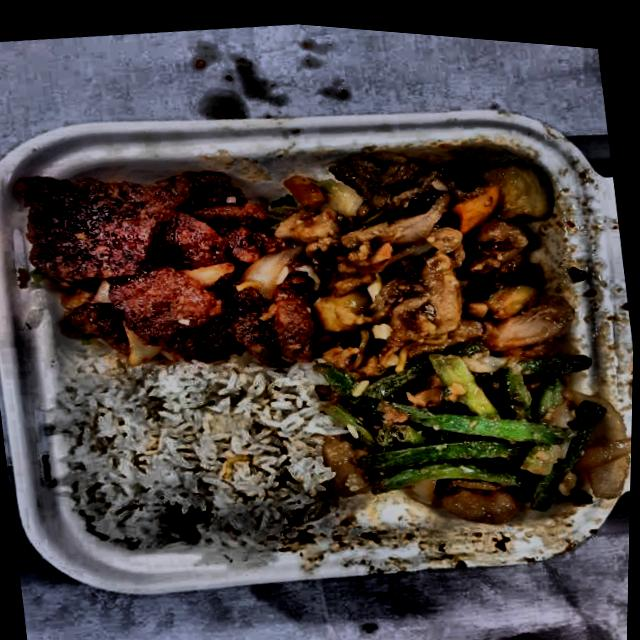Food: (266, 107, 575, 372), (50, 327, 352, 584), (14, 133, 311, 386), (328, 299, 635, 543)
